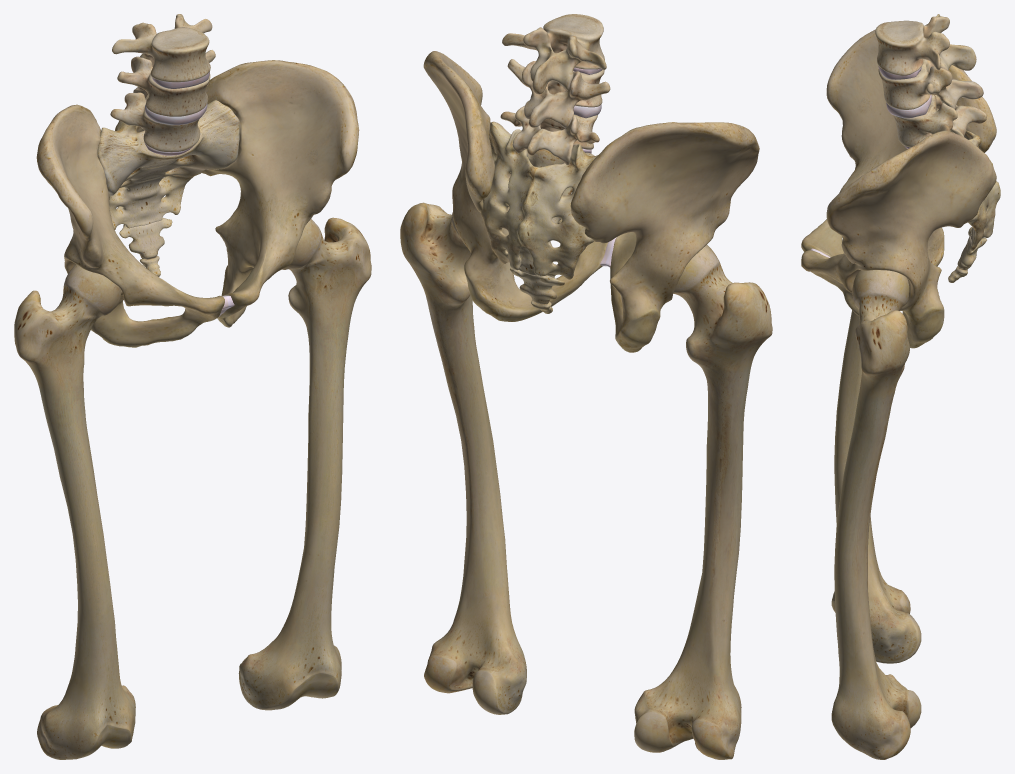
Rendered from Anterior wall fracture.fbx.
3 renders of one model, left to right at view 1: azimuth 30°, elevation 25°; view 2: azimuth 150°, elevation 25°; view 3: azimuth 270°, elevation 25°, orthographic. The views are drawn at different scales.
Parts seen in each view (by area): view 1: R_Femur, L_Femur, L_Os_Coxae, R_Os_Coxae, Sacrum, Vertebrae_L03, Vertebrae_L04, Vertebrae_L05, Coccyx; view 2: R_Femur, L_Femur, R_Os_Coxae, Sacrum, L_Os_Coxae, Vertebrae_L03, Vertebrae_L04, Vertebrae_L05, Coccyx; view 3: L_Femur, L_Os_Coxae, R_Os_Coxae, R_Femur, Vertebrae_L03, Vertebrae_L04, Vertebrae_L05, Sacrum, Coccyx, Disc_L04.
Boxes of the visible parts, x1,y1,x2,y2 form: R_Femur: [14, 264, 135, 759]; L_Femur: [238, 217, 371, 710]; L_Os_Coxae: [202, 60, 359, 327]; R_Os_Coxae: [36, 104, 224, 347]; Sacrum: [97, 100, 239, 229]; Vertebrae_L03: [112, 14, 212, 82]; Vertebrae_L04: [117, 50, 215, 116]; Vertebrae_L05: [110, 92, 200, 152]; Coccyx: [119, 218, 172, 276]; R_Femur: [634, 245, 772, 759]; L_Femur: [400, 202, 526, 714]; R_Os_Coxae: [570, 122, 759, 352]; Sacrum: [481, 121, 597, 279]; L_Os_Coxae: [423, 51, 607, 321]; Vertebrae_L03: [502, 14, 606, 94]; Vertebrae_L04: [507, 59, 610, 127]; Vertebrae_L05: [500, 105, 599, 164]; Coccyx: [510, 268, 564, 313]; L_Femur: [831, 270, 921, 759]; L_Os_Coxae: [801, 130, 996, 348]; R_Os_Coxae: [801, 29, 996, 266]; R_Femur: [831, 310, 921, 663]; Vertebrae_L03: [875, 14, 976, 75]; Vertebrae_L04: [878, 59, 983, 109]; Vertebrae_L05: [892, 95, 986, 147]; Sacrum: [937, 105, 1000, 250]; Coccyx: [948, 227, 986, 282]; Disc_L04: [886, 94, 931, 118].
Bounding box in the file's own units: 33.2 × 61.98 × 16.65.
